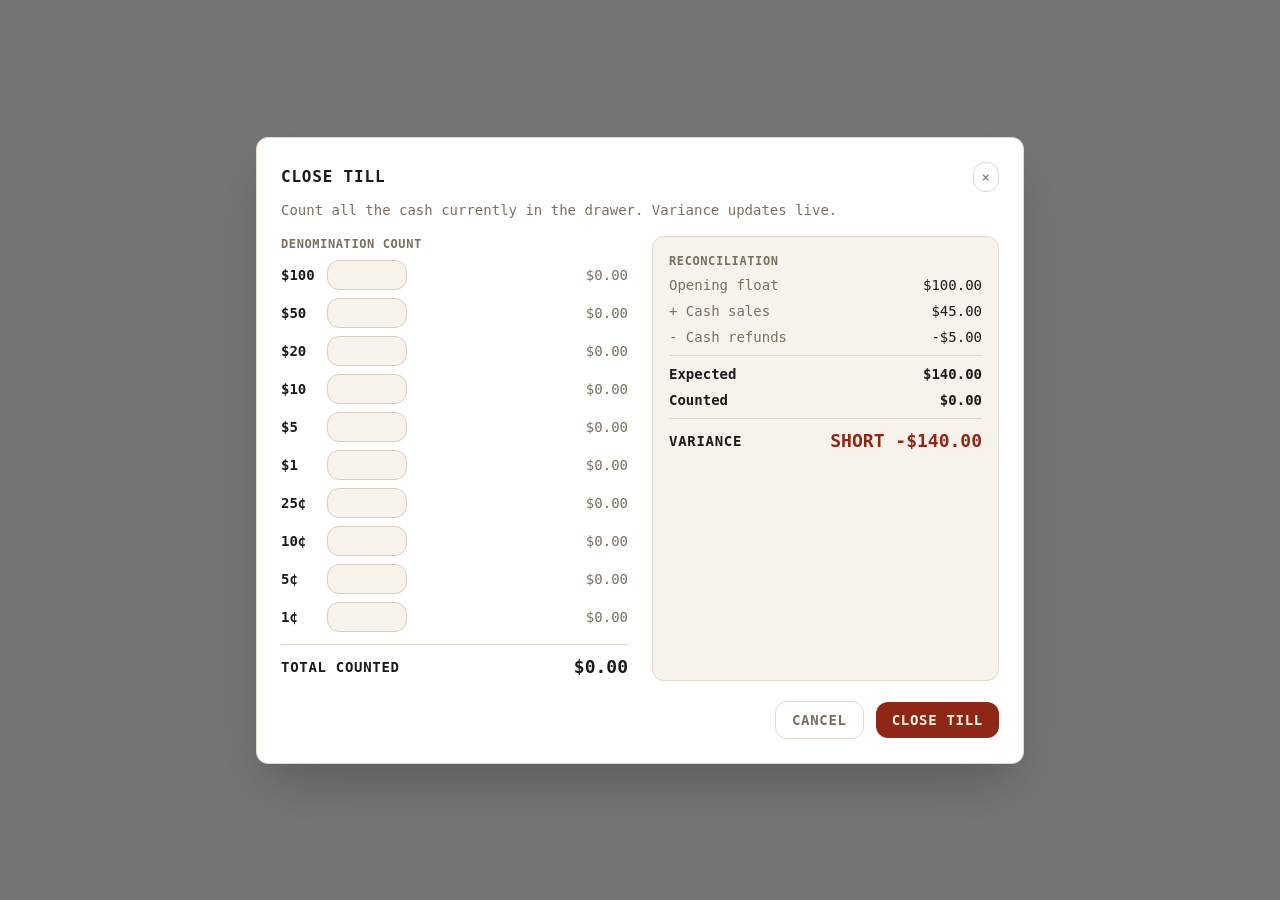
<CloseTillModal> › shows SHORT and signed variance when counted < expected
Check: the text "$140.00" is shown, box [923,364,982,384]
In the number field named "Count of $100": (367, 274) [327,260,407,290], type "1"
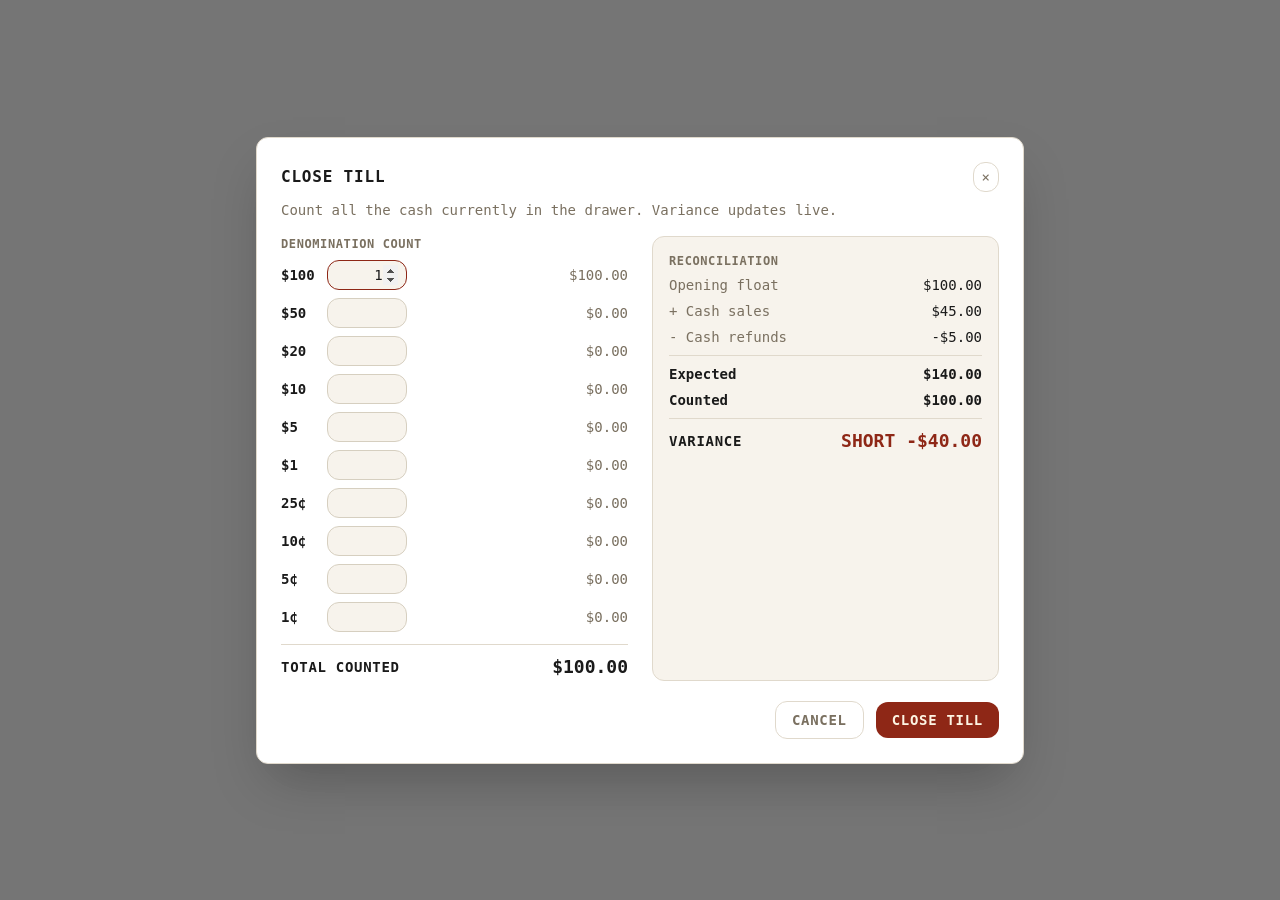
Check: the text with test id "close-till-variance" reads "SHORT -$40.00", box [841,430,982,450]
